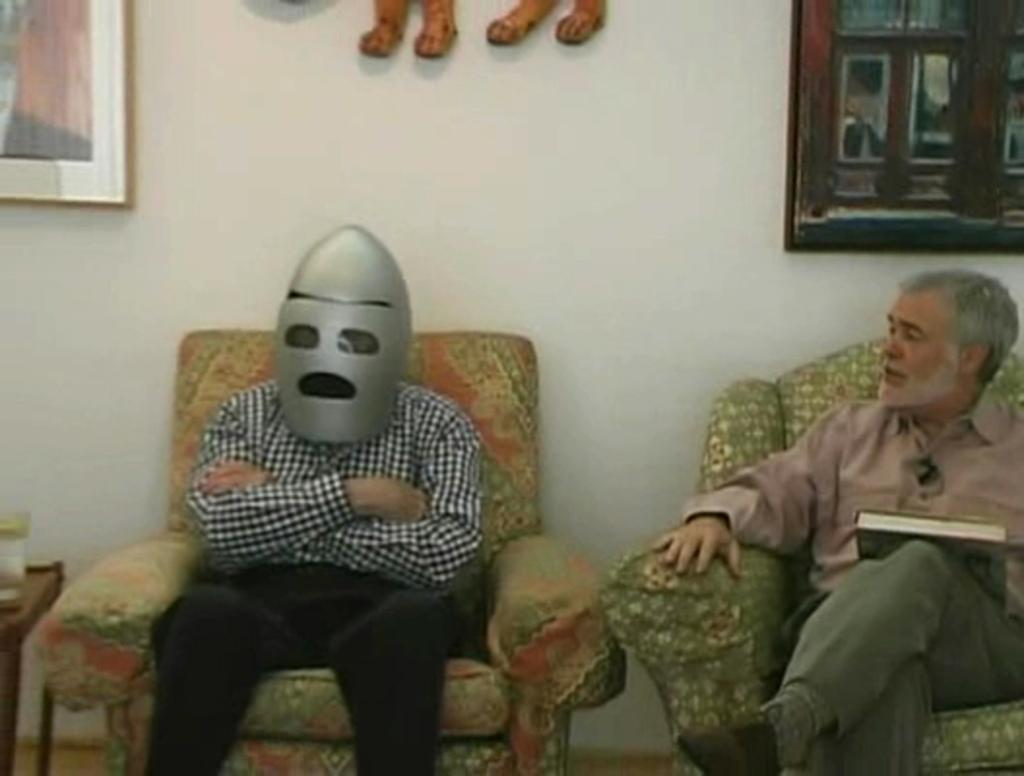Chair: (52, 332, 628, 774), (599, 338, 1022, 774)
